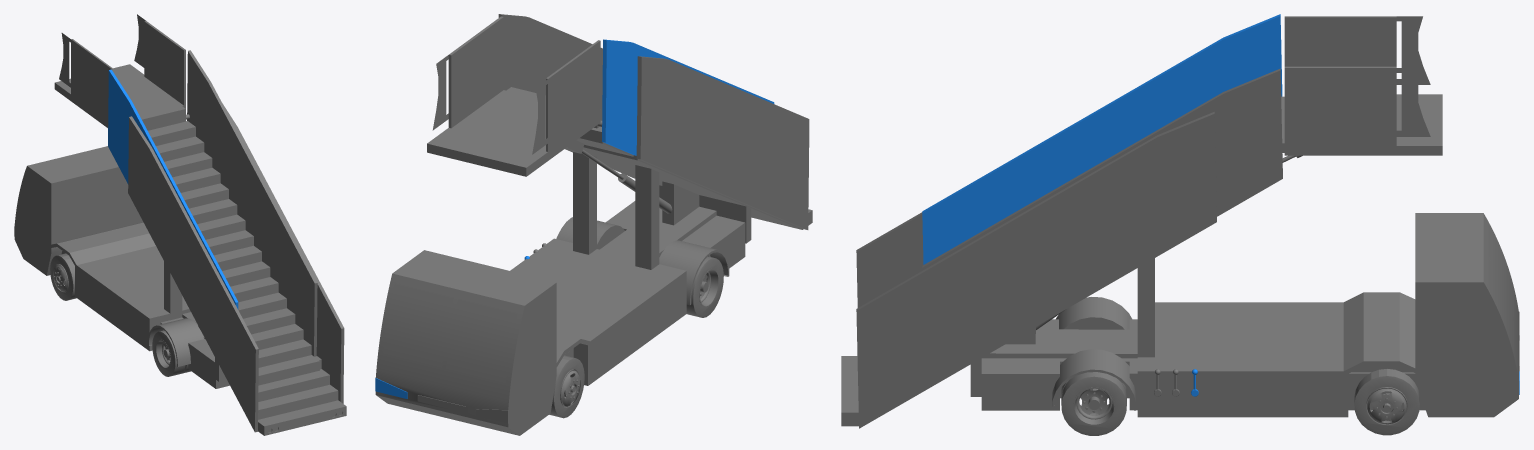
The model's file is stairCar.obj.
3 renders of one model, left to right at view 1: azimuth 30°, elevation 25°; view 2: azimuth 150°, elevation 25°; view 3: azimuth 270°, elevation 25°, orthographic. The views are drawn at different scales.
Visible parts, largest first — view 1: Layer0_001, ske622F_1_001, Group_008, Group_007, Group_003, ske622F_001, Group_006, Group_009, paralamas_003, roda_tras_1_001, roda_diant_1_003; view 2: Layer0_001, Group_008, Group_003, Group_007, Group_006, ske622F_001, paralamas_003, roda_diant_1_003, roda_tras_1_001, paralamas_001, ske622F_1_001; view 3: Layer0_001, Group_009, Group_003, Group_006, Group_007, Group_008, roda_diant_1_001, roda_tras_1_003, paralamas_001, paralamas_003, ske622F_001.
Part boxes in pixels (x1,y1,x2,y2): Layer0_001: [14, 146, 229, 388]; ske622F_1_001: [148, 121, 319, 385]; Group_008: [128, 116, 258, 432]; Group_007: [187, 50, 317, 356]; Group_003: [54, 14, 189, 130]; ske622F_001: [258, 356, 346, 435]; Group_006: [108, 69, 238, 309]; Group_009: [222, 103, 344, 403]; paralamas_003: [148, 318, 204, 366]; roda_tras_1_001: [152, 330, 190, 376]; roda_diant_1_003: [50, 253, 76, 300]; Layer0_001: [375, 152, 751, 435]; Group_008: [636, 56, 809, 229]; Group_003: [427, 16, 602, 176]; Group_007: [498, 14, 602, 120]; Group_006: [602, 39, 774, 155]; ske622F_001: [565, 145, 812, 229]; paralamas_003: [659, 240, 729, 305]; roda_diant_1_003: [549, 355, 584, 418]; roda_tras_1_001: [686, 256, 723, 317]; paralamas_001: [556, 217, 624, 249]; ske622F_1_001: [565, 126, 633, 156]; Layer0_001: [970, 155, 1519, 417]; Group_009: [856, 112, 1216, 428]; Group_003: [1281, 16, 1442, 155]; Group_006: [922, 14, 1282, 264]; Group_007: [922, 68, 1282, 270]; Group_008: [856, 212, 923, 307]; roda_diant_1_001: [1354, 369, 1419, 435]; roda_tras_1_003: [1061, 372, 1126, 435]; paralamas_001: [1052, 349, 1136, 410]; paralamas_003: [1056, 297, 1131, 329]; ske622F_001: [841, 356, 858, 426].
Bounding box in the file's own units: 83.04 × 186 × 319.
